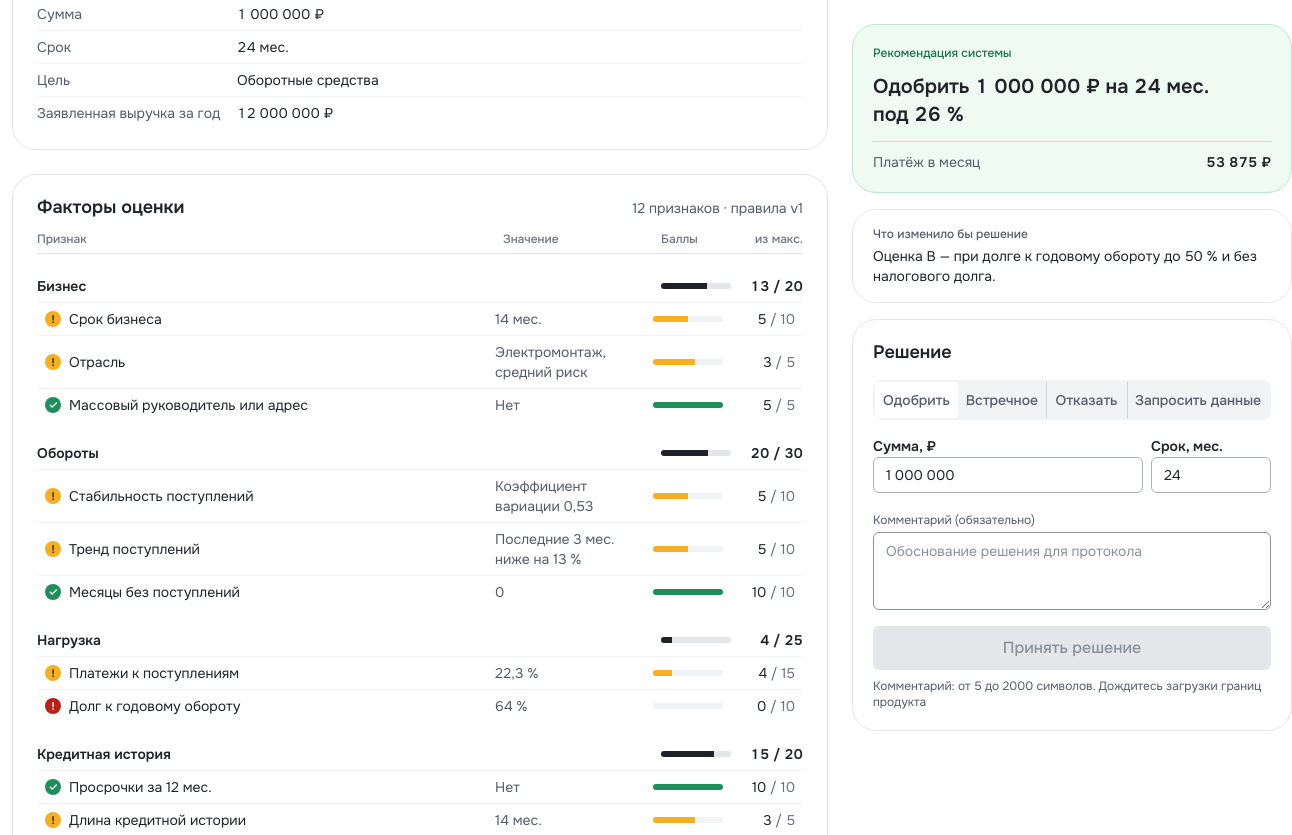
Scenario: показывает 409 и перезагружает карточку
The image size is (1292, 835).
(page scrolled)
Expected: the heading "Факторы оценки" is shown, [37,195,184,219]
Step 1. Type "Первичные сведения проверены" into the text box labelled "Комментарий (обязательно)" → (1072, 571), box [873,532,1271,610]
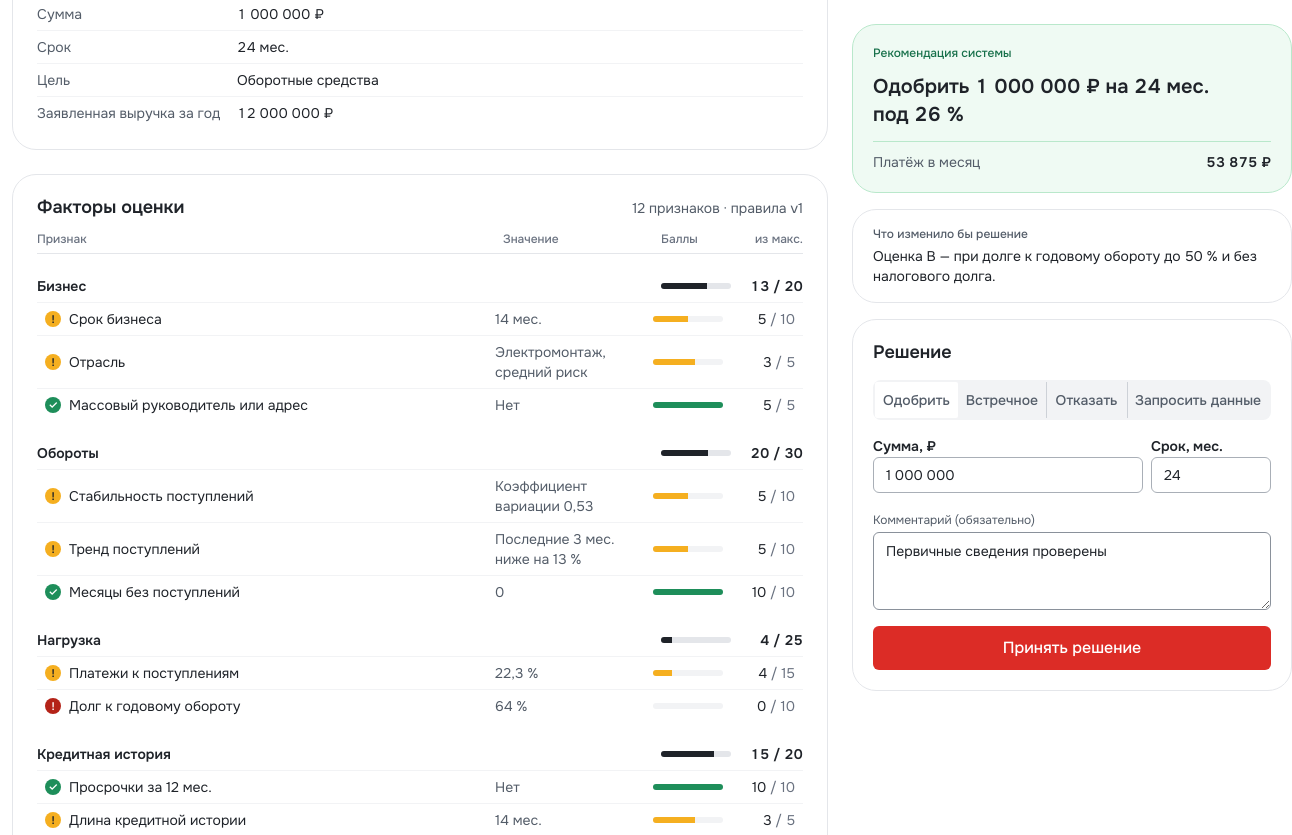
Step 2. Click the button "Принять решение" → (1072, 648), box [873,626,1271,670]
(page scrolled)
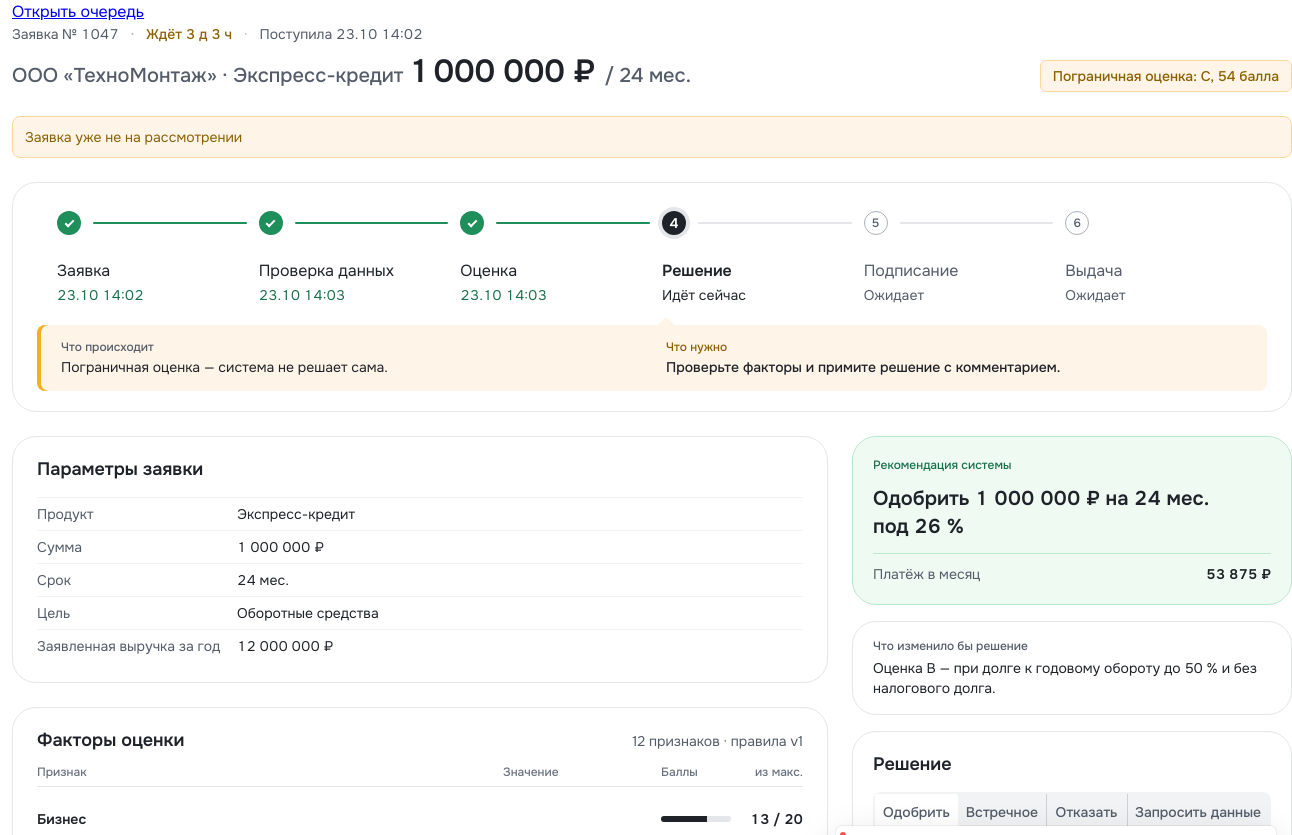
Now the text "Заявка уже не на рассмотрении" is shown, box [12,116,1291,158]
